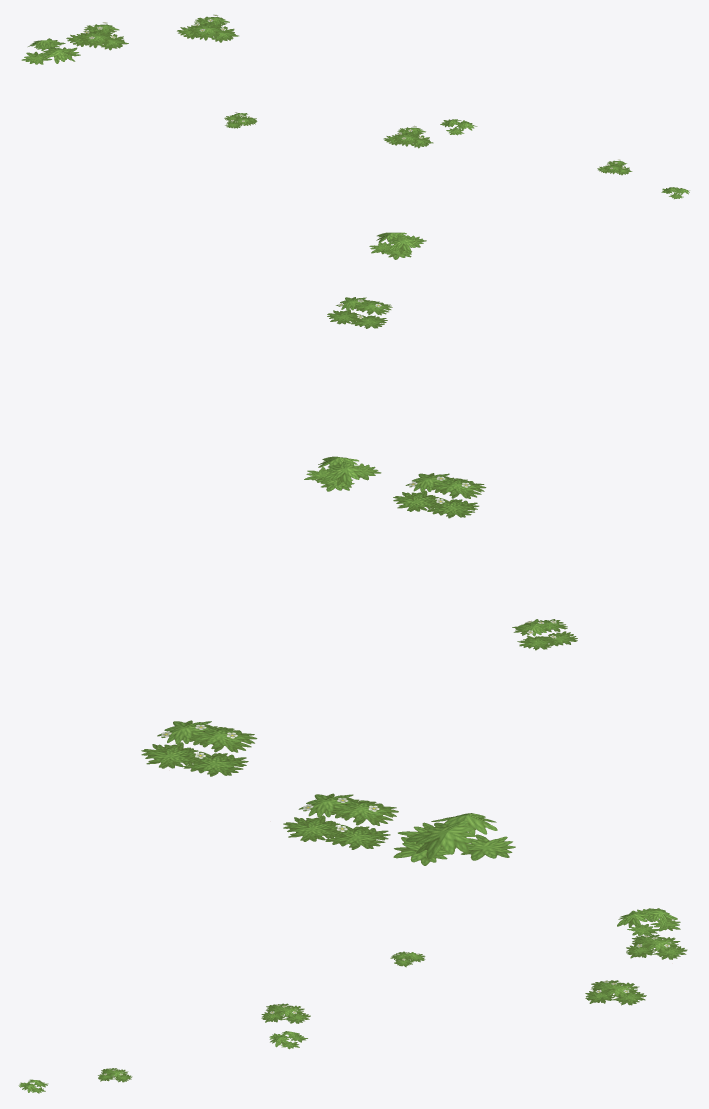
The model's file is Area_12_9.fbx.
3 renders of one model, top to bottom at view 1: azimuth 30°, elevation 25°; view 2: azimuth 150°, elevation 25°; view 3: azimuth 270°, elevation 25°, orthographic. The views are drawn at different scales.
Parts seen in each view (by area): view 1: Area_12_9; view 2: Area_12_9; view 3: Area_12_9.
Part boxes in pixels (x1,y1,x2,y2): Area_12_9: [21, 14, 689, 199]; Area_12_9: [141, 232, 577, 865]; Area_12_9: [18, 908, 687, 1093].
Bounding box in the file's own units: 2374 × 79.8 × 3576.
